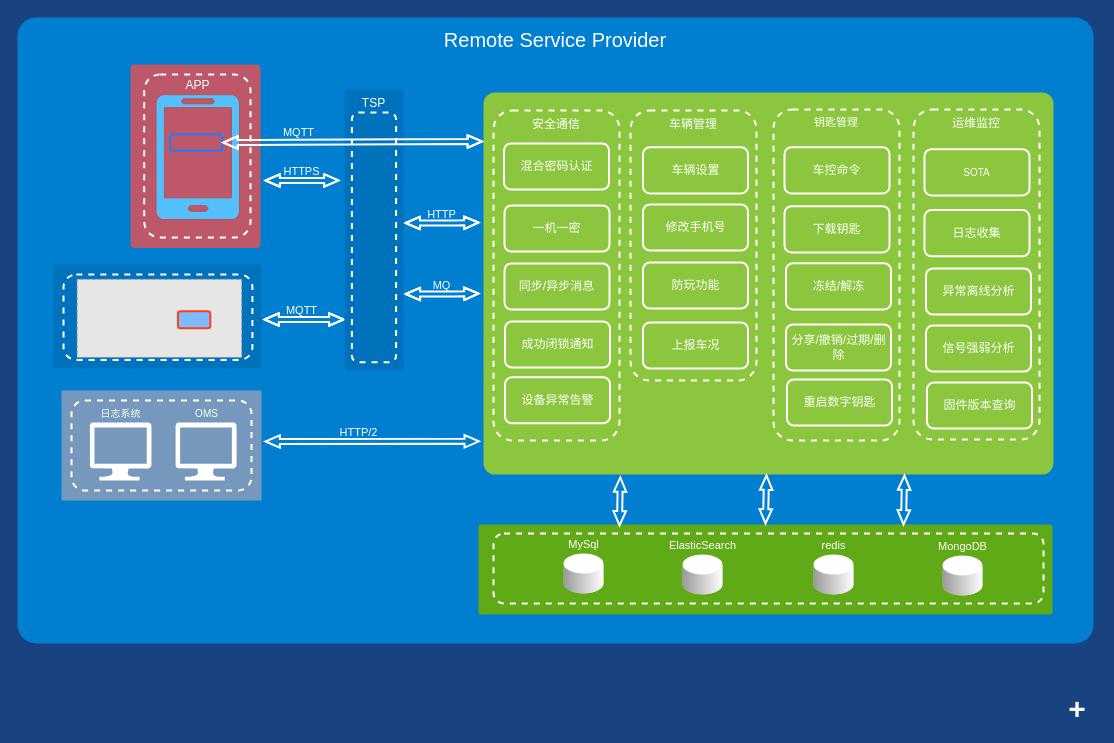
The diagram is 1114 pixels wide and 743 high, and some of its shapes have lost their labels. Grey dashed boxes stand in for pictures. Each missing label, with the centre of its shape:
"DKPlugin" belongs at point (195, 142).
"SBM" belongs at point (193, 319).
"透传" belongs at point (373, 237).
